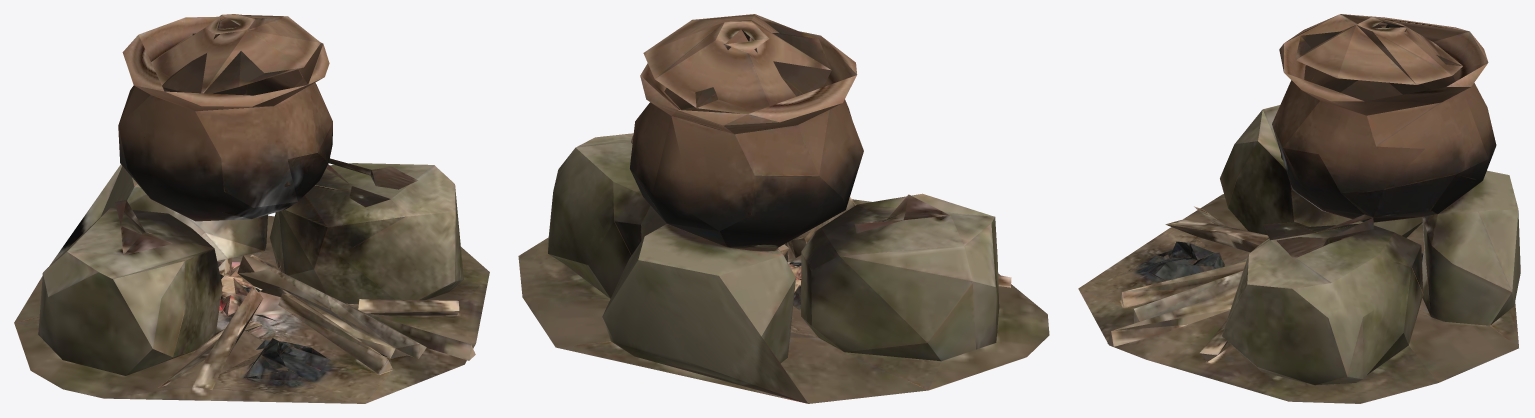
Rendered from cooking-fire.glb.
The picture shows the model from 3 angles, left to right: view 1: azimuth 30°, elevation 25°; view 2: azimuth 150°, elevation 25°; view 3: azimuth 270°, elevation 25°; orthographic projection. The views are drawn at different scales.
Parts seen in each view (by area): view 1: output_unwrapped; view 2: output_unwrapped; view 3: output_unwrapped.
Part boxes in pixels (left/top/right/bottom): output_unwrapped: left=14, top=14, right=489, bottom=403; output_unwrapped: left=518, top=14, right=1049, bottom=403; output_unwrapped: left=1078, top=14, right=1520, bottom=403.
Size of the model in its own units: 1 by 0.5736 by 0.8376.
Materials: 1 (1 with a texture image).
